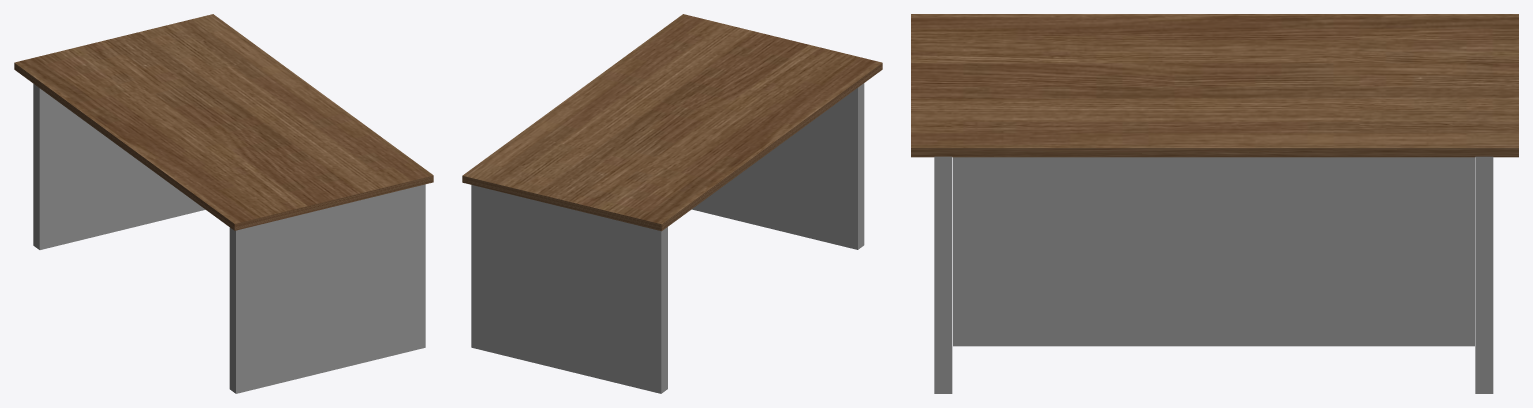
Rendered from table.fbx.
3 views of the same model, side by side, from view 1: azimuth 30°, elevation 25°; view 2: azimuth 150°, elevation 25°; view 3: azimuth 270°, elevation 25° (orthographic). The views are drawn at different scales.
Parts seen in each view (by area): view 1: Cube; view 2: Cube; view 3: Cube.
Boxes of the visible parts, <box> form: Cube: <box>14,14,433,393</box>; Cube: <box>462,14,882,393</box>; Cube: <box>911,14,1518,393</box>.
Bounding box in the file's own units: 200 × 171 × 384.
2 materials, 1 textured.
